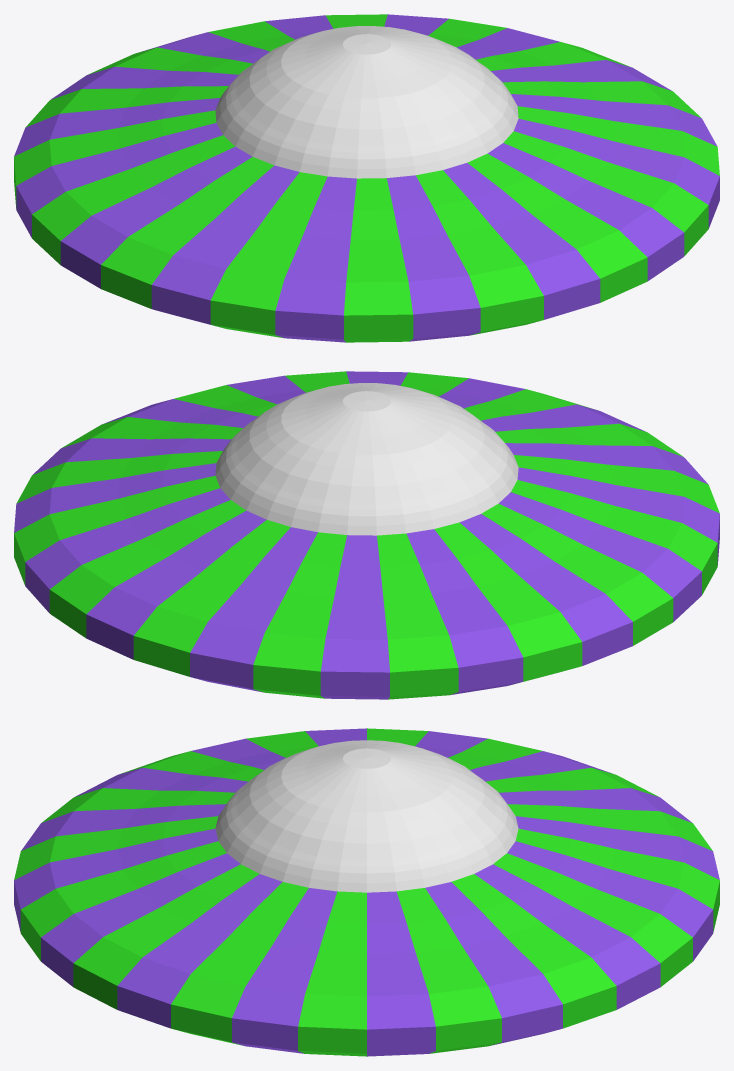
File: UFO.fbx
3 renders of one model, top to bottom at view 1: azimuth 30°, elevation 25°; view 2: azimuth 150°, elevation 25°; view 3: azimuth 270°, elevation 25°, orthographic.
Parts seen in each view (by area): view 1: Cylinder, Cylinder.001; view 2: Cylinder, Cylinder.001; view 3: Cylinder, Cylinder.001.
Part boxes in pixels (left/top/right/bottom): Cylinder: left=14, top=14, right=719, bottom=342; Cylinder.001: left=215, top=26, right=518, bottom=178; Cylinder: left=14, top=371, right=719, bottom=699; Cylinder.001: left=215, top=383, right=518, bottom=535; Cylinder: left=14, top=728, right=719, bottom=1056; Cylinder.001: left=215, top=740, right=518, bottom=892.
Size of the model in its own units: 734 by 255 by 734.
